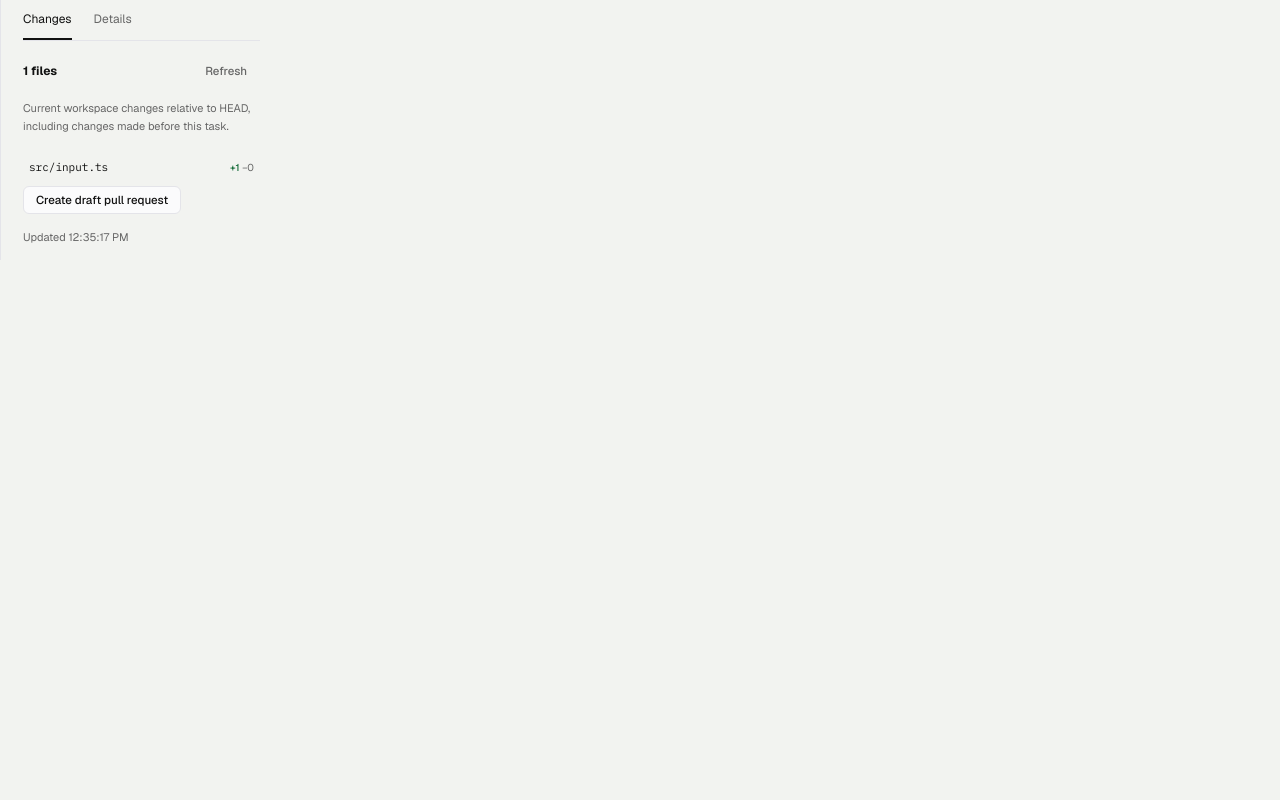
Test: Remote session inspector › requires a title and selected reviewed files before publishing the sealed revision
Click the button "Create draft pull request": (102, 200) [23, 186, 181, 214]
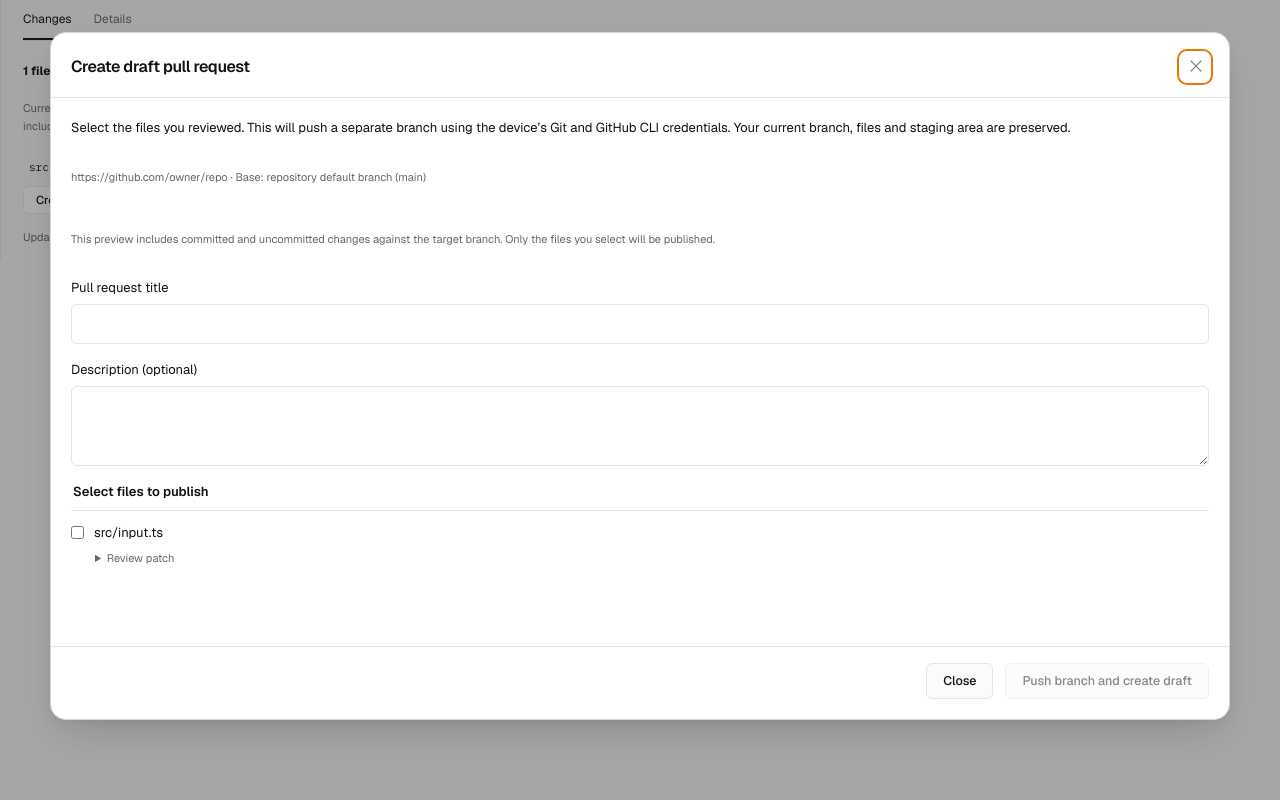
Expected: the button "Push branch and create draft" is disabled, [1006, 663, 1209, 699]
In the field labelled "Pull request title": (640, 324) [71, 304, 1209, 344], type "Fix input"
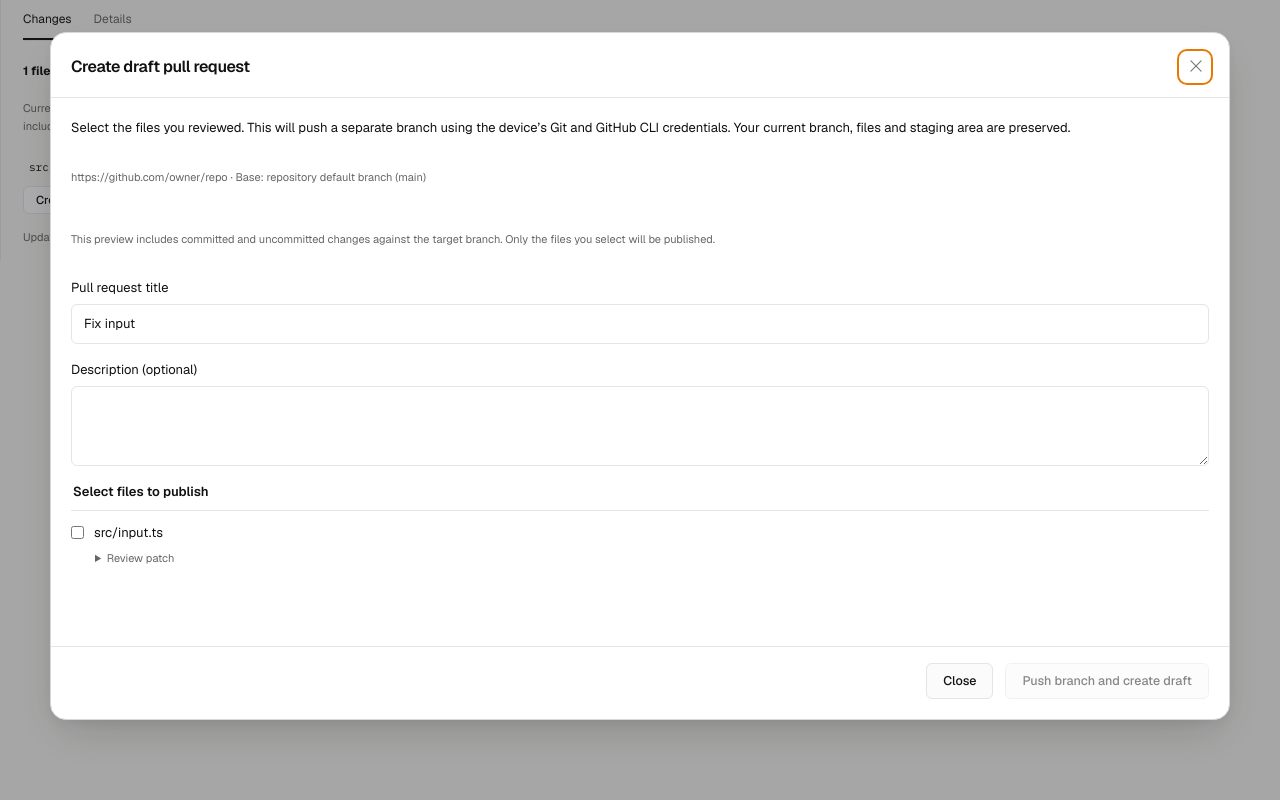
Click the checkbox labelled "src/input.ts": (78, 532) [71, 526, 84, 539]
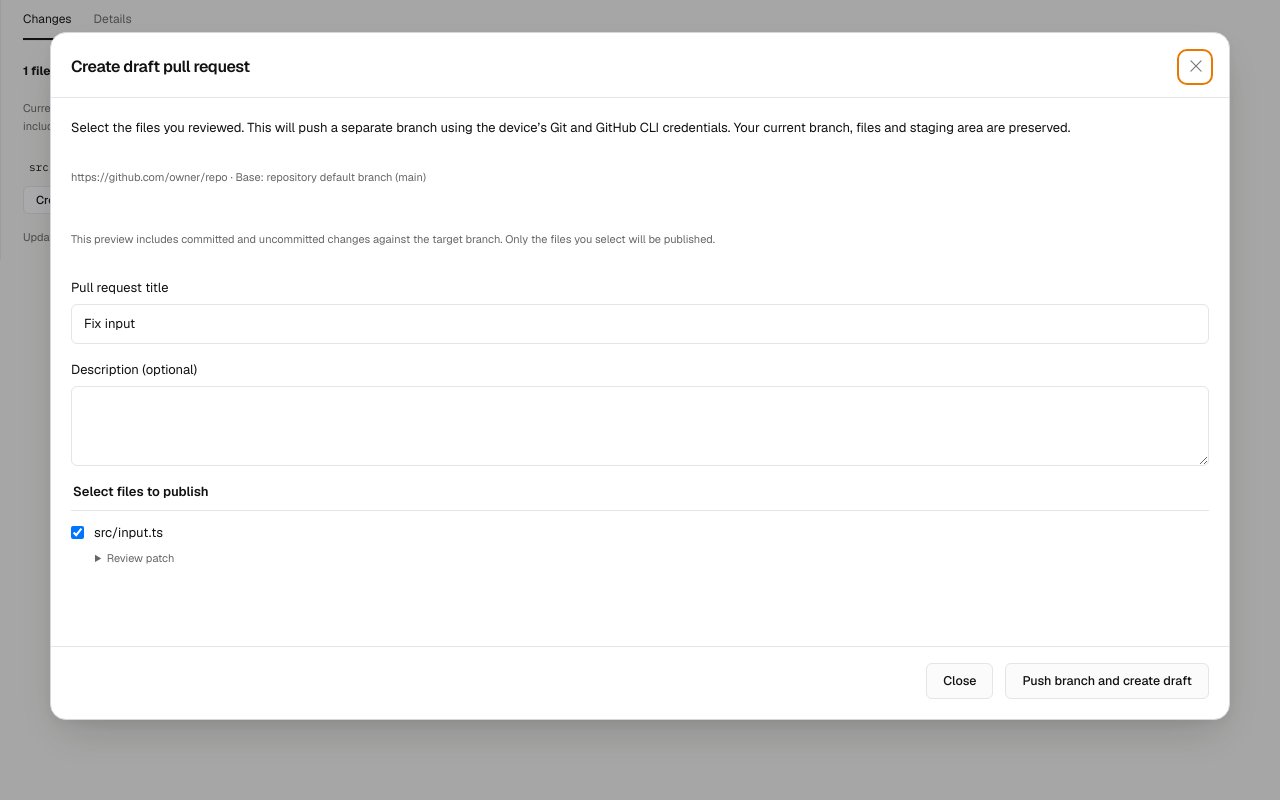
Expected: the button "Push branch and create draft" is enabled
Click the button "Push branch and create draft": (1107, 681) [1006, 663, 1209, 699]
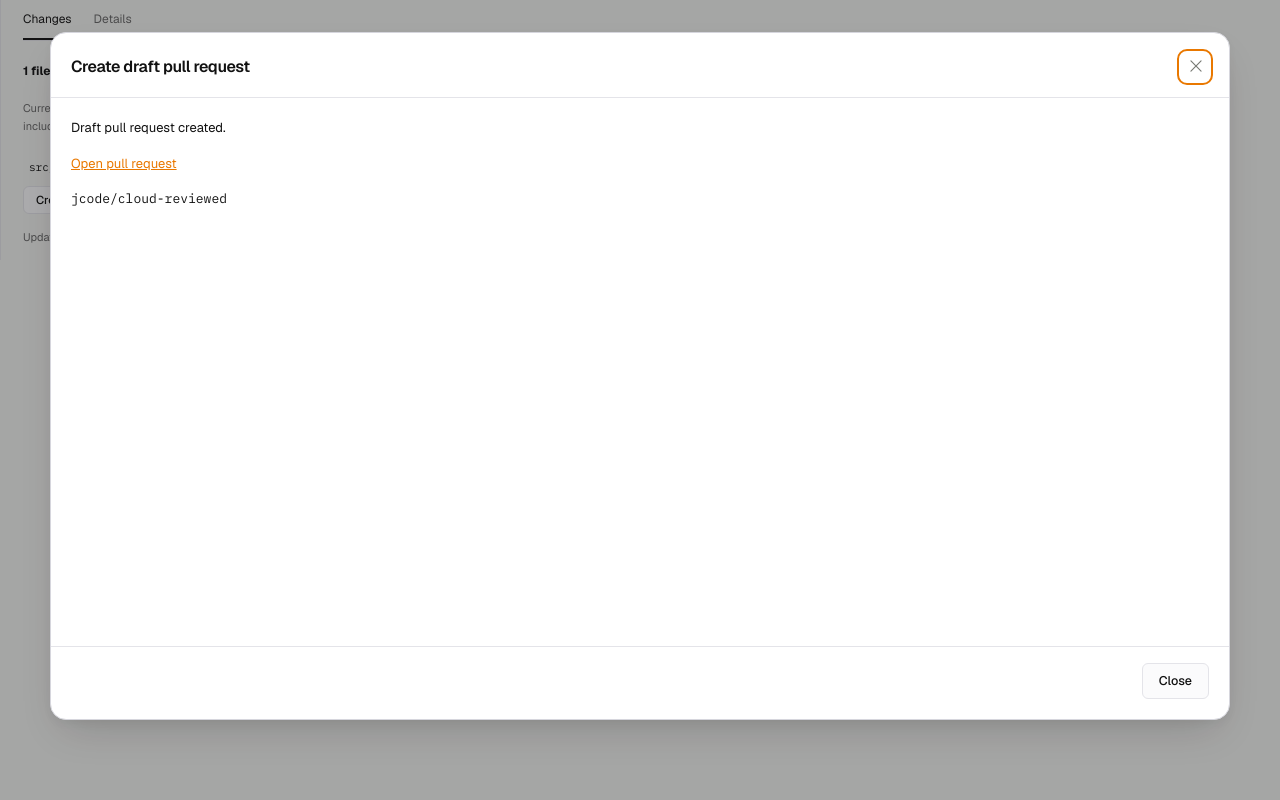
Expected: the link "Open pull request" is shown, [71, 154, 177, 172]
